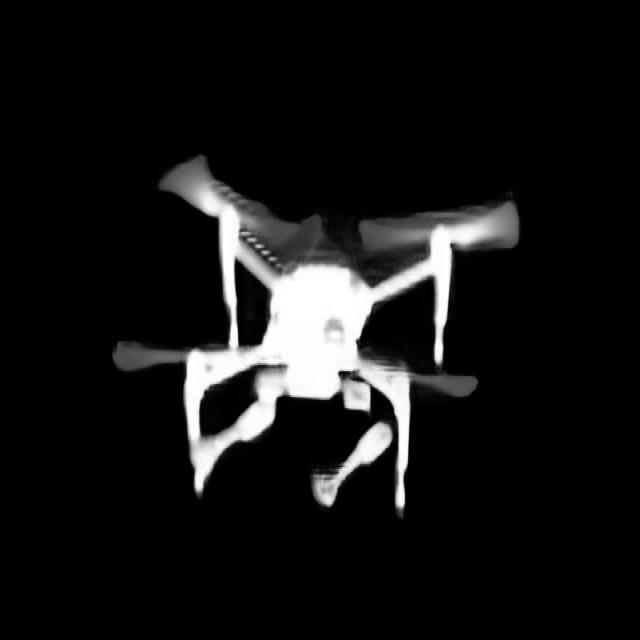drone: (100, 134, 528, 526)
